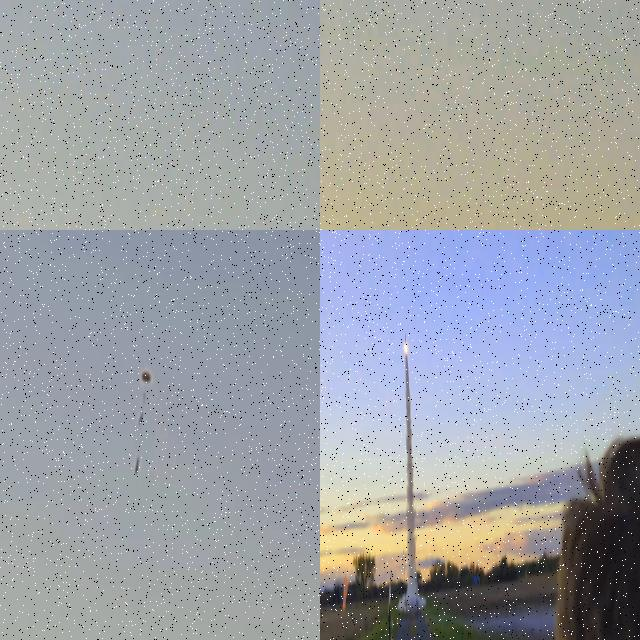Rocket: (135, 456, 140, 475), (404, 331, 406, 344)
